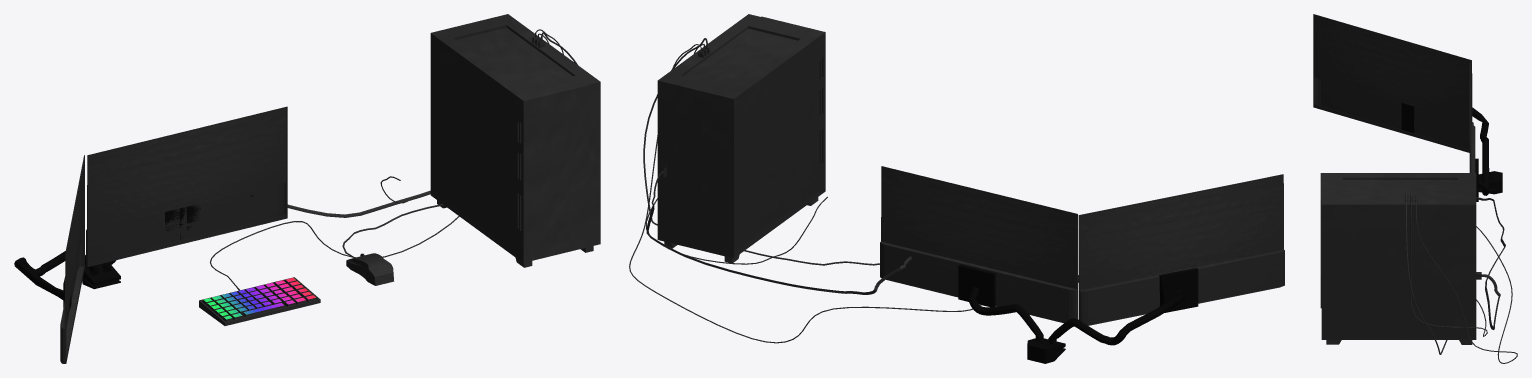
The picture shows the model from 3 angles, left to right: view 1: azimuth 30°, elevation 25°; view 2: azimuth 150°, elevation 25°; view 3: azimuth 270°, elevation 25°; orthographic projection. The views are drawn at different scales.
Parts seen in each view (by area): view 1: PC_BlackPlasticTexture_0, PantallaPc1_ScreenTexture1_0.002, PC_BlackPlasticTexture2_0, PC_GreenPlasticTexture_0; view 2: PantallaPc1_ScreenTexture1_0.002, PC_BlackPlasticTexture_0; view 3: PC_BlackPlasticTexture_0, PantallaPc1_ScreenTexture1_0.002.
Boxes of the visible parts, x1,y1,x2,y2 form: PC_BlackPlasticTexture_0: [210, 14, 600, 280]; PantallaPc1_ScreenTexture1_0.002: [14, 106, 287, 363]; PC_BlackPlasticTexture2_0: [199, 252, 394, 325]; PC_GreenPlasticTexture_0: [204, 278, 315, 319]; PantallaPc1_ScreenTexture1_0.002: [880, 166, 1284, 363]; PC_BlackPlasticTexture_0: [629, 14, 981, 343]; PC_BlackPlasticTexture_0: [1320, 173, 1517, 363]; PantallaPc1_ScreenTexture1_0.002: [1313, 14, 1502, 201].
Bounding box in the file's own units: 11.1 × 4.31 × 3.98.
4 materials, 3 textured.
